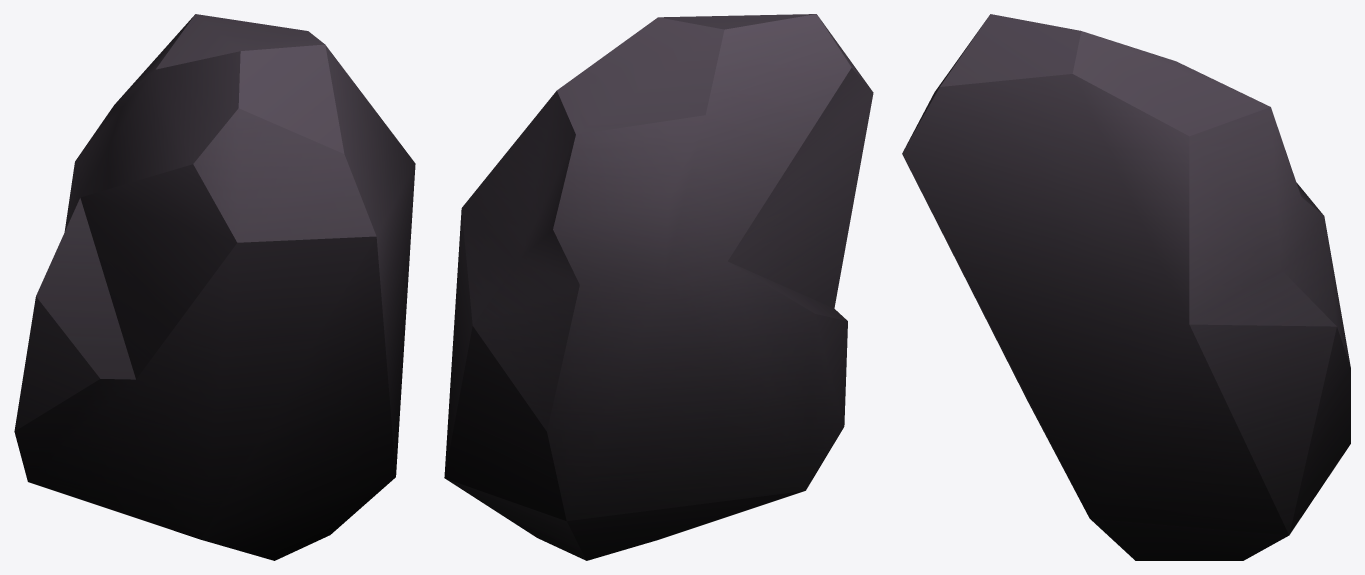
Rendered from rock3.fbx.
3 views of the same model, side by side, from view 1: azimuth 30°, elevation 25°; view 2: azimuth 150°, elevation 25°; view 3: azimuth 270°, elevation 25° (orthographic). The views are drawn at different scales.
Visible parts, largest first — view 1: rock5; view 2: rock5; view 3: rock5.
Part boxes in pixels (bbox=[...]): rock5: bbox=[14, 14, 415, 560]; rock5: bbox=[444, 14, 873, 560]; rock5: bbox=[902, 14, 1350, 560].
Size of the model in its own units: 317 by 390 by 332.
